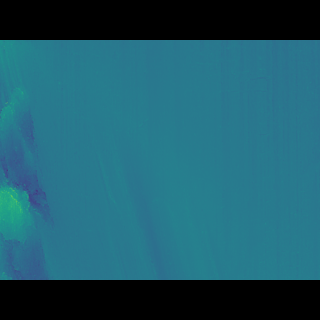Loch: (0, 92, 58, 250)
